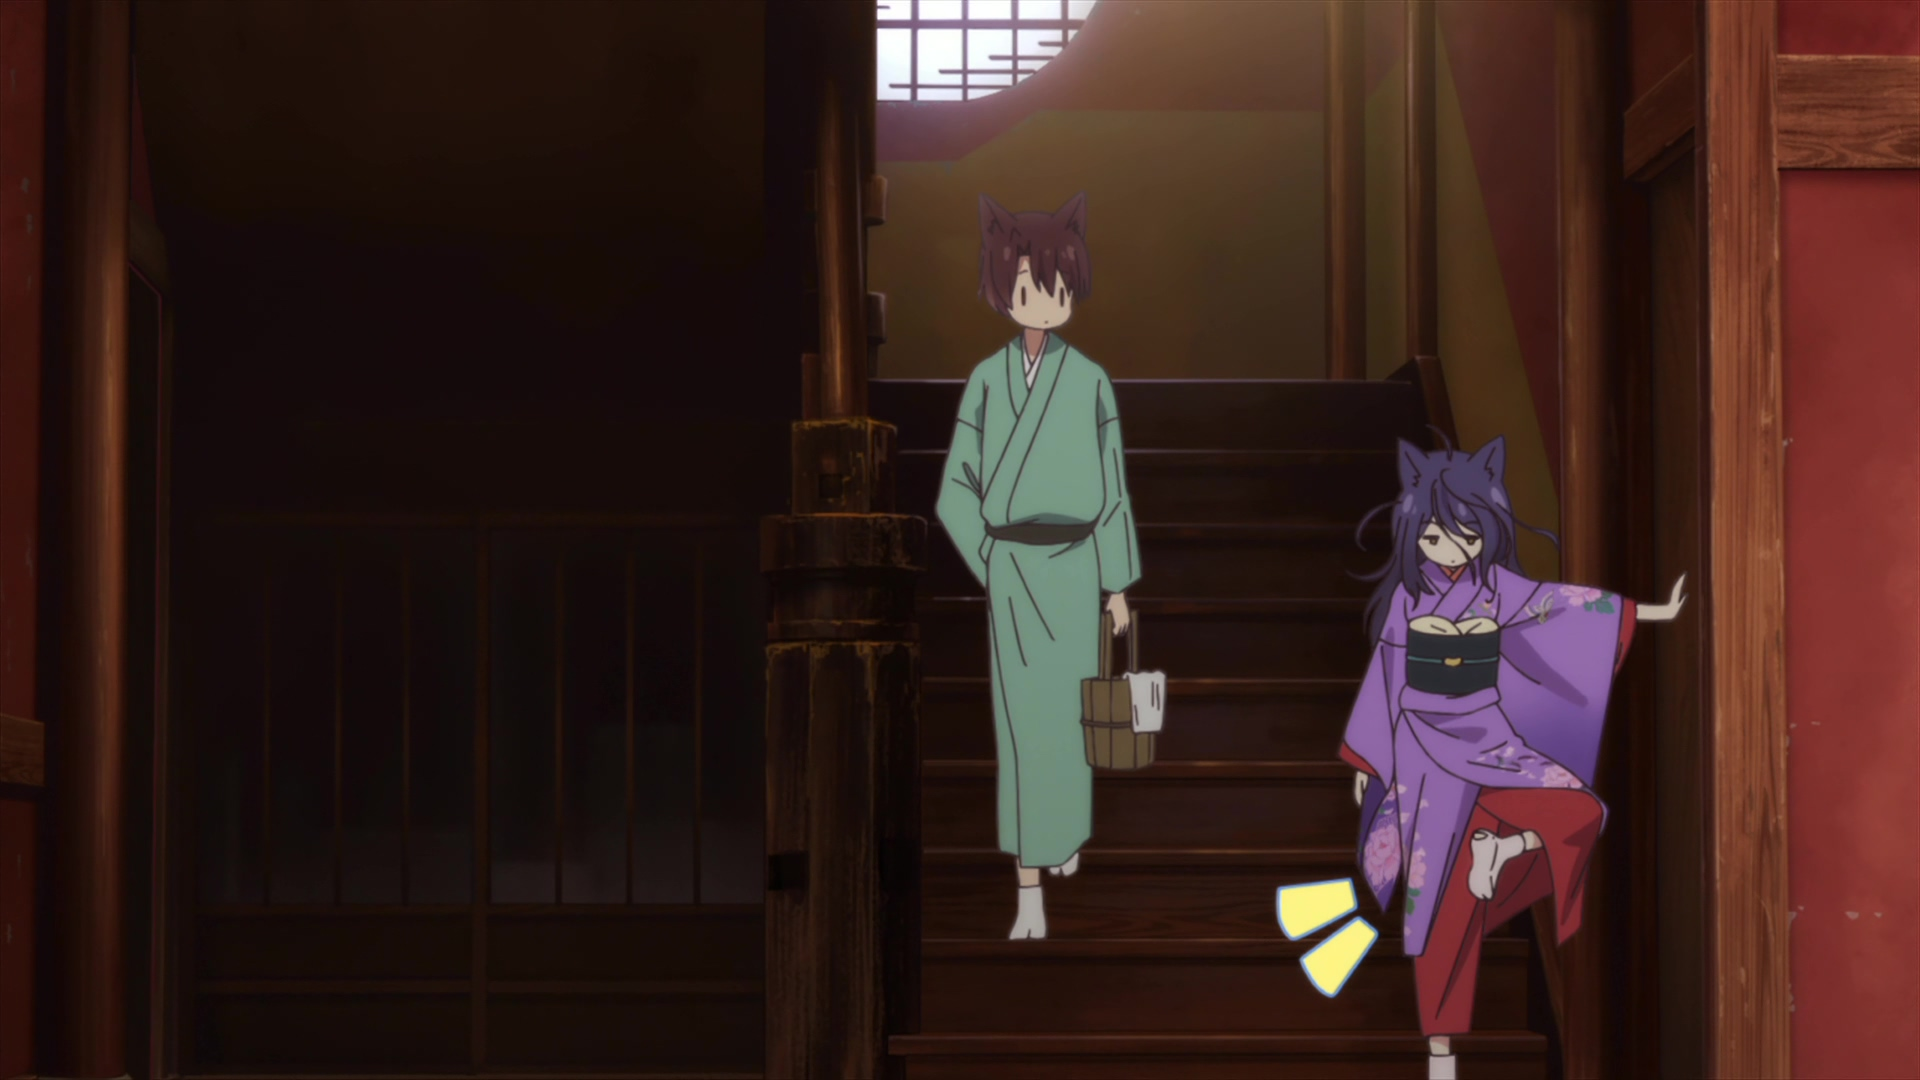枣: (932, 196, 1167, 939)
皋: (1336, 435, 1689, 1080)
